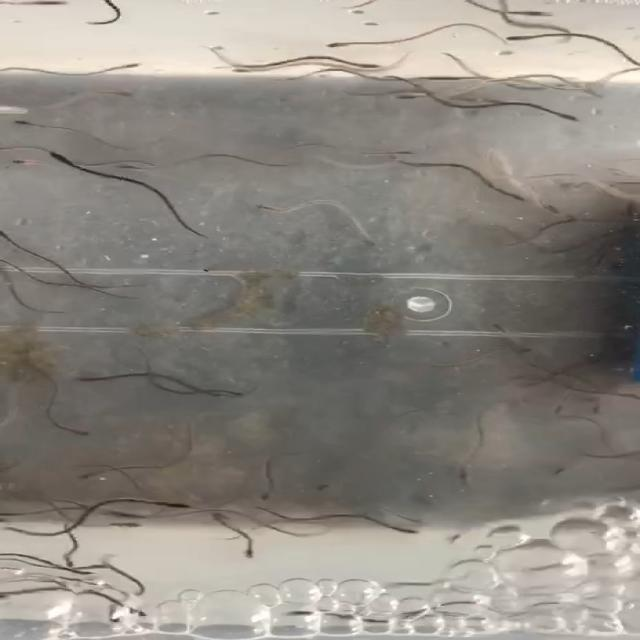active_glass_eel: (395, 508, 442, 530), (310, 32, 368, 49), (491, 185, 542, 203), (388, 525, 438, 541), (108, 603, 154, 620), (395, 89, 442, 105), (70, 558, 119, 573), (278, 605, 321, 622), (36, 151, 84, 166), (54, 546, 90, 566), (201, 387, 235, 408), (108, 514, 141, 535), (299, 517, 347, 531), (65, 424, 98, 444), (96, 87, 146, 100), (0, 153, 40, 169), (63, 548, 116, 560), (550, 105, 585, 123), (247, 486, 278, 506), (118, 61, 155, 77), (78, 465, 106, 486), (347, 57, 391, 70), (167, 492, 193, 514), (74, 368, 100, 389), (252, 197, 286, 213), (108, 502, 142, 518), (228, 546, 264, 561), (579, 86, 614, 101), (545, 398, 574, 416), (523, 5, 550, 24), (451, 470, 485, 485), (601, 64, 640, 77), (549, 75, 574, 95), (480, 320, 513, 335), (8, 117, 48, 129), (501, 346, 532, 361), (547, 460, 576, 476), (93, 610, 125, 624), (318, 479, 352, 492), (586, 398, 610, 416), (560, 227, 592, 240), (489, 34, 522, 46), (116, 163, 154, 173), (0, 227, 22, 244), (234, 64, 263, 76), (538, 201, 564, 214), (394, 146, 421, 157)
